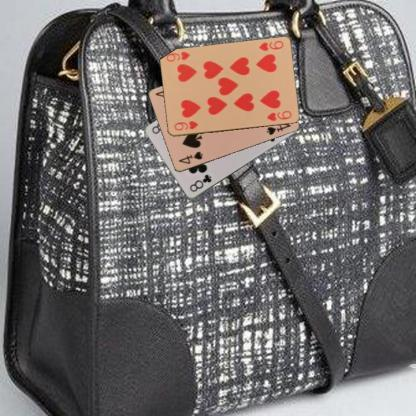4s: (176, 149, 204, 165)
8c: (186, 172, 212, 194)
9h: (256, 38, 284, 53), (172, 118, 200, 132)
